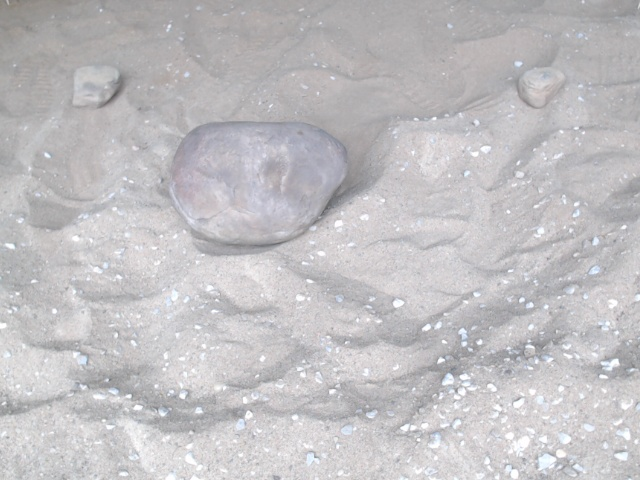rock: (159, 115, 351, 251), (65, 61, 124, 114), (513, 62, 569, 112)
